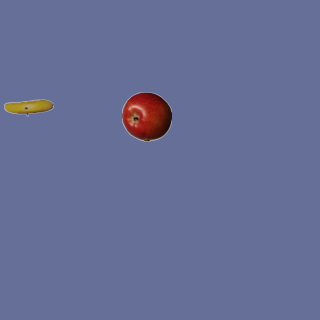Apple Braeburn: (121, 91, 171, 141)
Banana: (3, 82, 53, 132)
